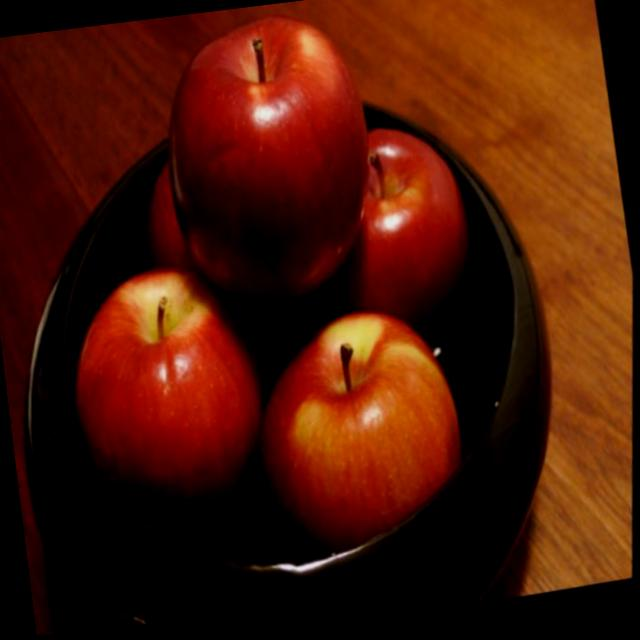Apple: (155, 15, 387, 312), (56, 258, 282, 555), (248, 304, 478, 556), (310, 112, 480, 338)
